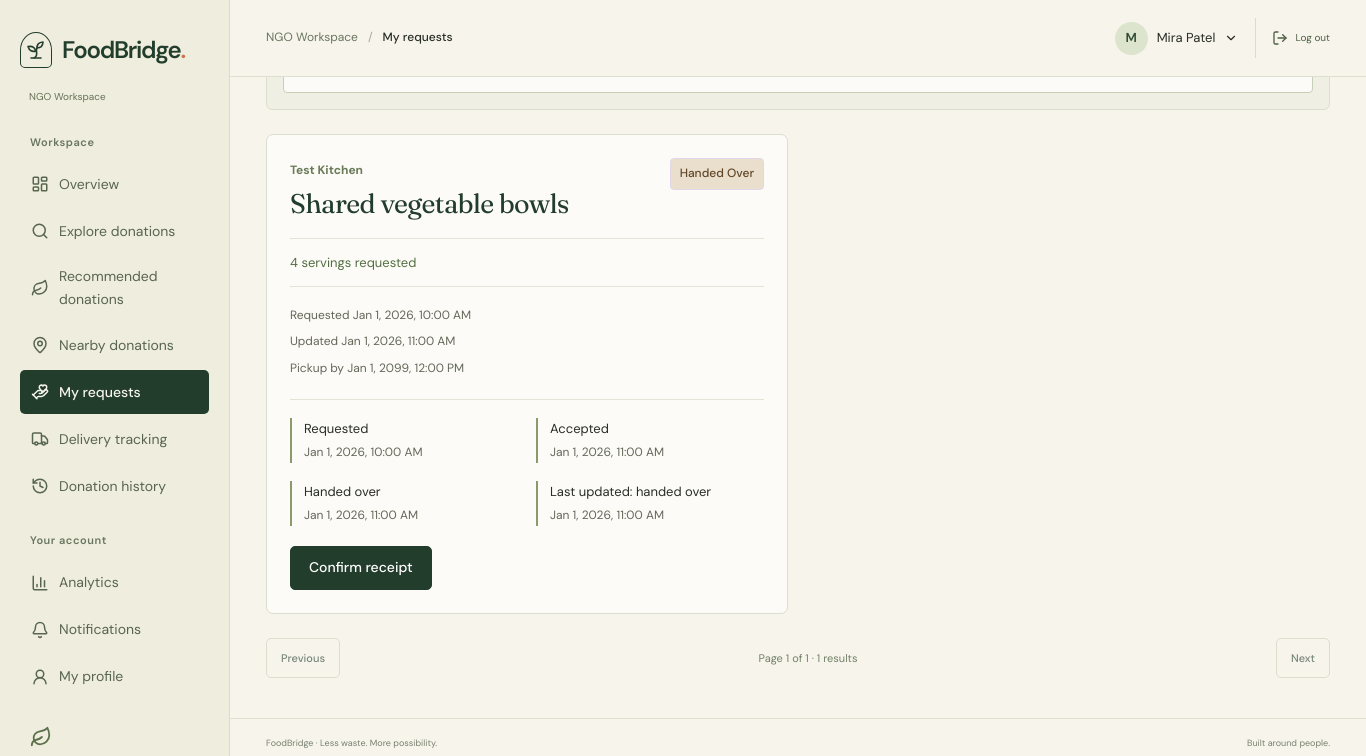
Scenario: Phase 4 NGO workspace › confirms NGO receipt only after handover using the existing action
(page scrolled)
Click the button "Confirm receipt": (361, 568) [290, 546, 432, 590]
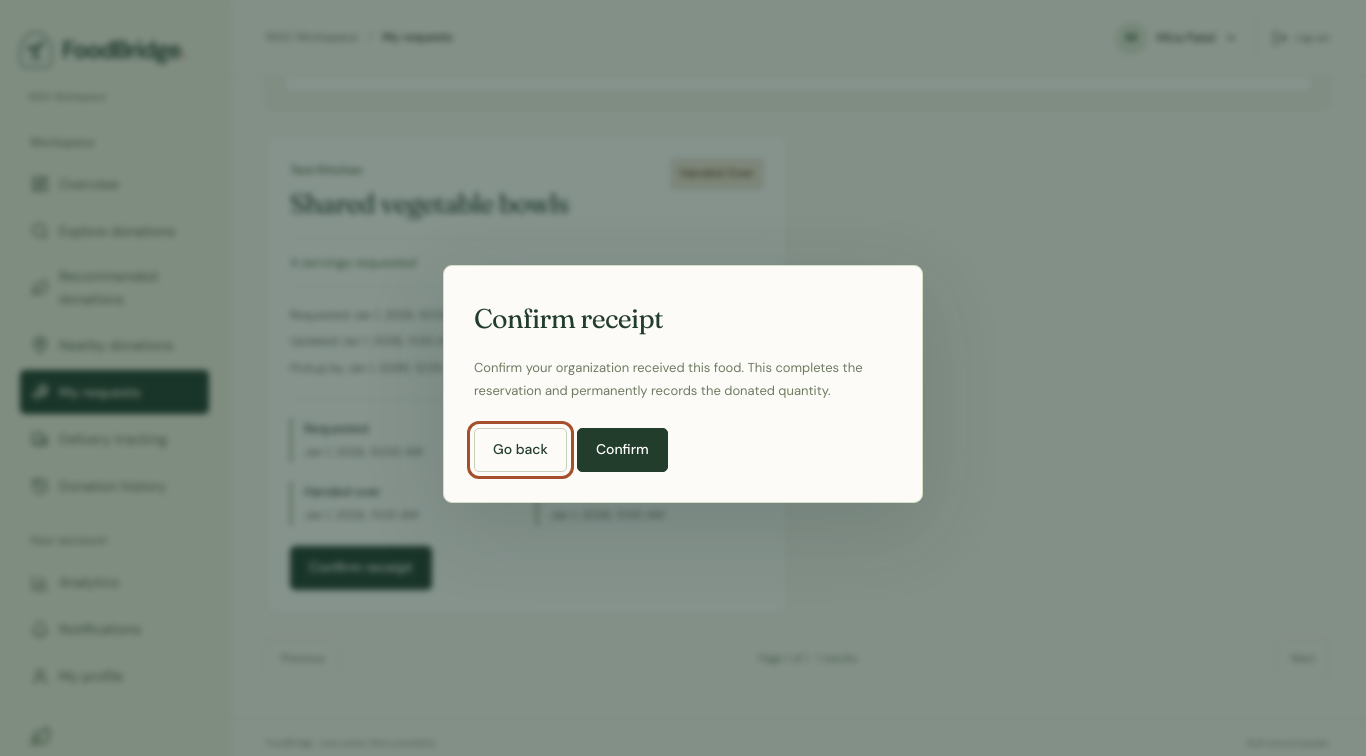
Click the button "Confirm": (622, 450) [577, 428, 668, 472]
(page scrolled)
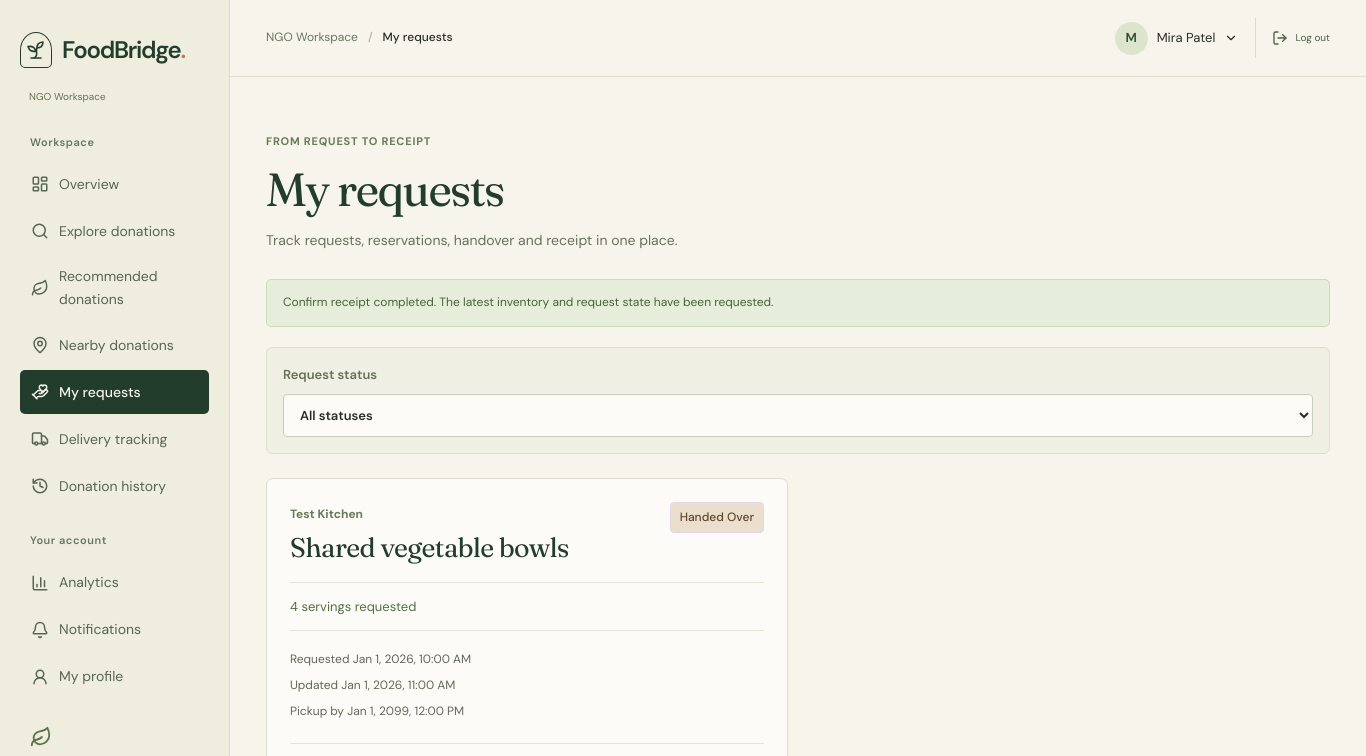
Check: the message shows "Confirm receipt completed", box [283, 294, 774, 310]
